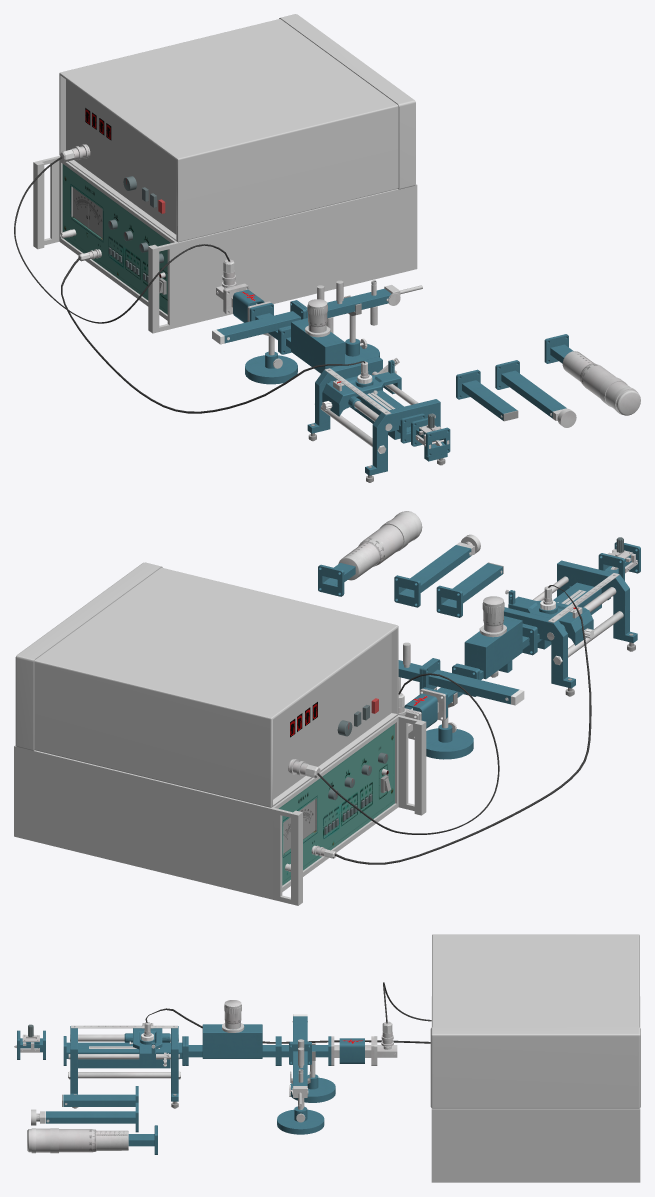
3 views of the same model, one above another, from view 1: azimuth 30°, elevation 25°; view 2: azimuth 150°, elevation 25°; view 3: azimuth 270°, elevation 25° (orthographic). The views are drawn at different scales.
Parts seen in each view (by area): view 1: pCube28, pPlane1, zhuti, pCube33, kebianduanluqi4, Box001, Circle039, polySurface7, polySurface2, line, NGon032, NGon030 (+4 smaller); view 2: pCube28, pPlane1, zhuti, pCube33, kebianduanluqi4, Box001, polySurface2, Circle039, polySurface7, line, NGon030, line2 (+11 smaller); view 3: pCube28, pPlane1, pCube33, pCube39, kebianduanluqi4, polySurface7, zhuti, Circle021, Box001, NGon030, cmLine gan1, Circle039 (+9 smaller).
Part boxes in pixels (box(x1,y1,x2,y2)): pCube28: box(59, 14, 415, 242); pPlane1: box(33, 155, 417, 333); zhuti: box(307, 356, 447, 475); pCube33: box(291, 318, 344, 373); kebianduanluqi4: box(580, 363, 640, 415); Box001: box(322, 360, 401, 416); Circle039: box(245, 351, 297, 384); polySurface7: box(501, 370, 566, 420); polySurface2: box(217, 311, 300, 343); line: box(61, 256, 365, 413); NGon032: box(327, 288, 391, 318); NGon030: box(462, 380, 517, 420); pCube28: box(15, 562, 398, 807); pPlane1: box(14, 715, 426, 905); zhuti: box(498, 560, 637, 688); pCube33: box(464, 616, 522, 679); kebianduanluqi4: box(358, 511, 422, 566); Box001: box(508, 590, 593, 645); polySurface2: box(428, 669, 519, 704); Circle039: box(426, 724, 473, 759); polySurface7: box(400, 542, 474, 595); line: box(335, 585, 591, 864); NGon030: box(443, 563, 502, 606); line2: box(317, 673, 499, 834); pCube28: box(430, 934, 640, 1108); pPlane1: box(431, 996, 640, 1182); pCube33: box(202, 1024, 262, 1058); pCube39: box(66, 1042, 182, 1068); kebianduanluqi4: box(27, 1128, 96, 1153); polySurface7: box(40, 1111, 135, 1123); zhuti: box(70, 1026, 178, 1101); Circle021: box(277, 1106, 324, 1134); Box001: box(124, 1023, 170, 1065); NGon030: box(63, 1094, 135, 1106); cmLine gan1: box(68, 1034, 179, 1059); Circle039: box(290, 1074, 335, 1102).
Bounding box in the file's own units: 58.2 × 28.54 × 108.
